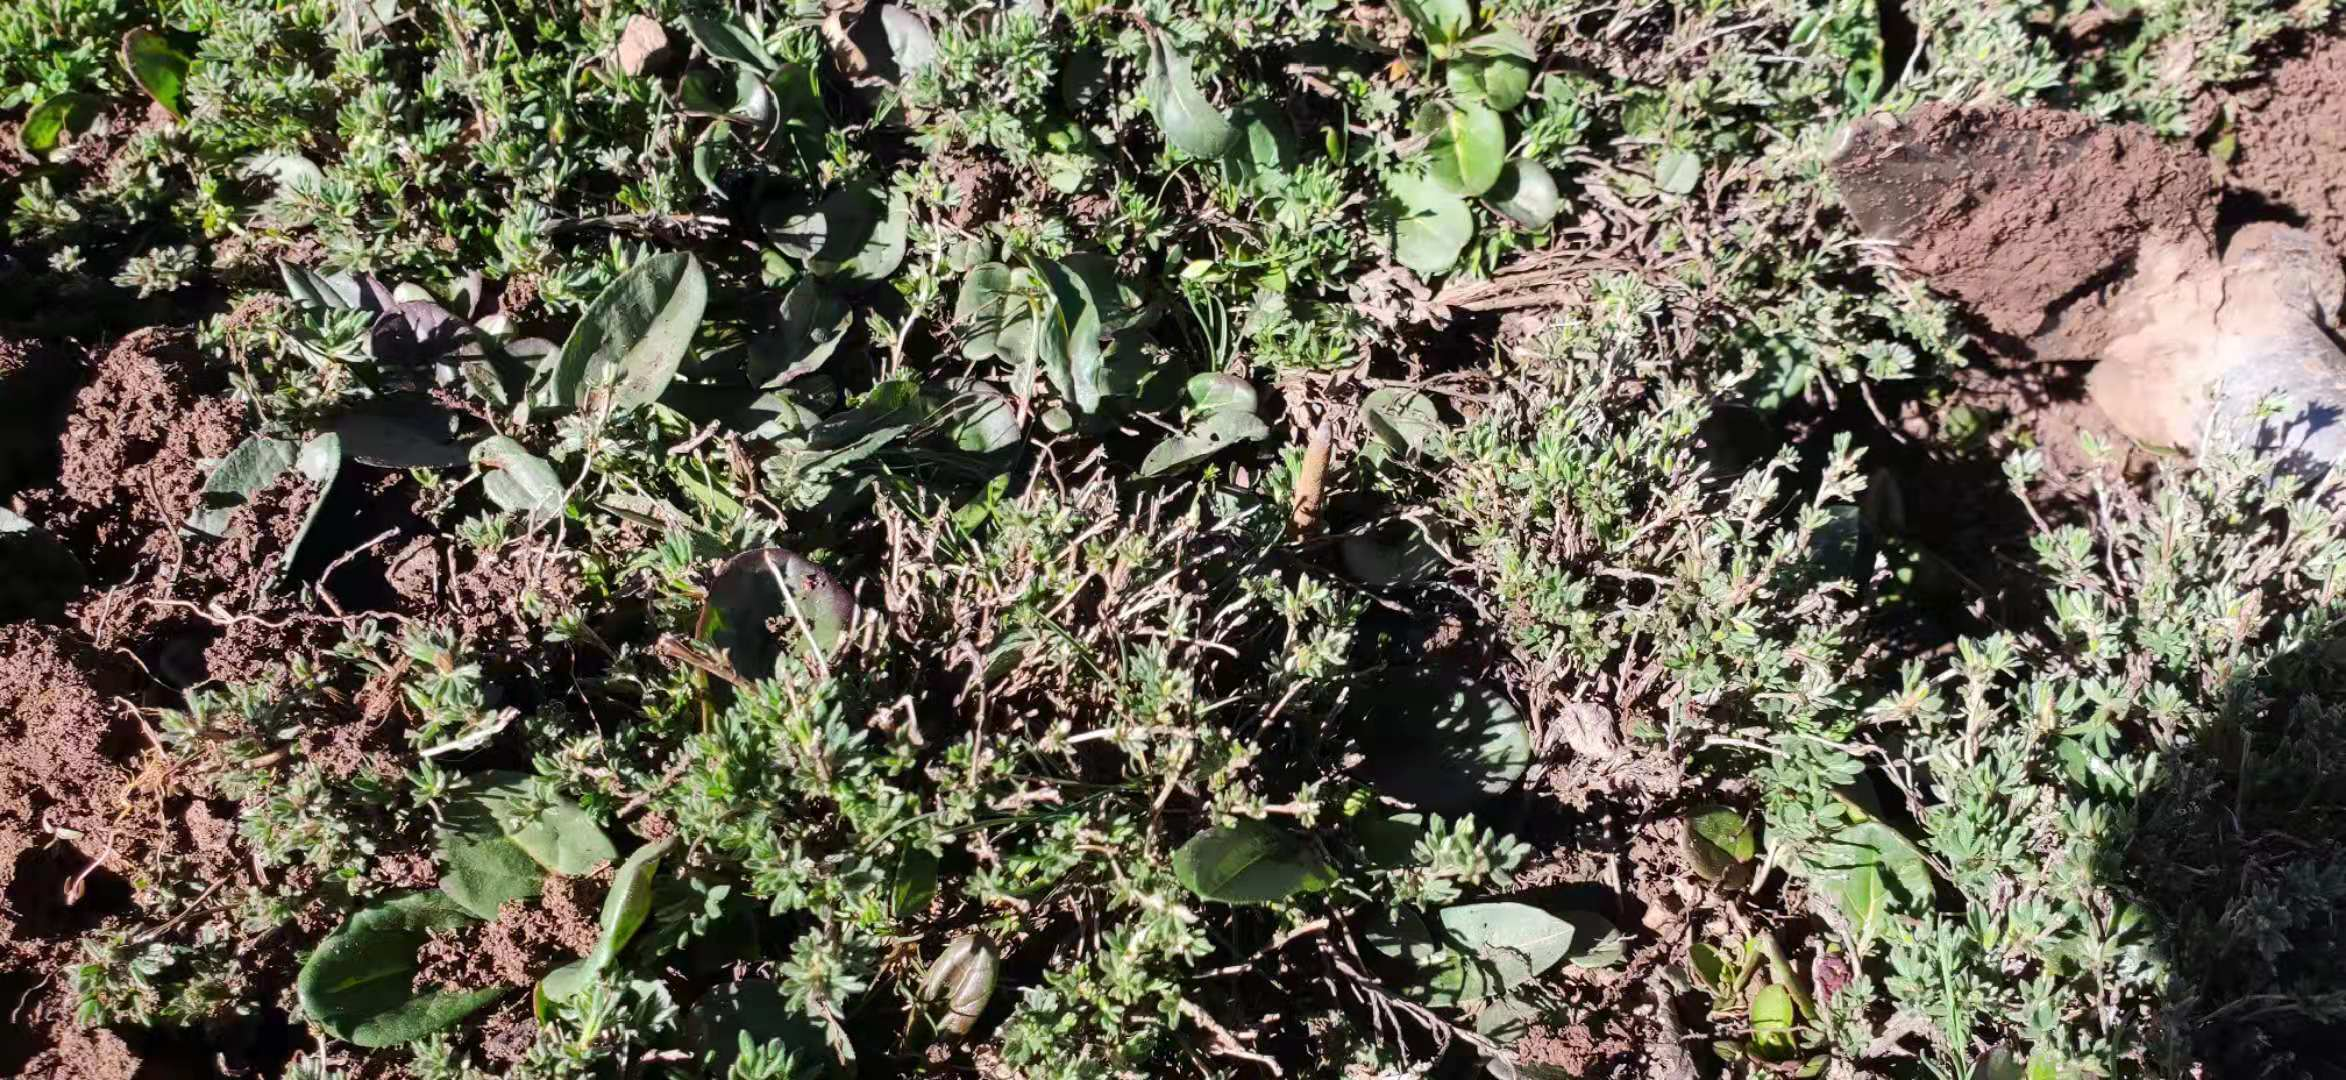cpf: (1284, 411, 1344, 531)
